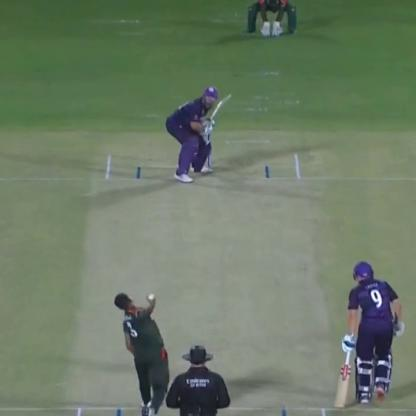ball: (143, 288, 161, 306)
bat: (205, 93, 235, 129)
pitch: (67, 144, 341, 414)
